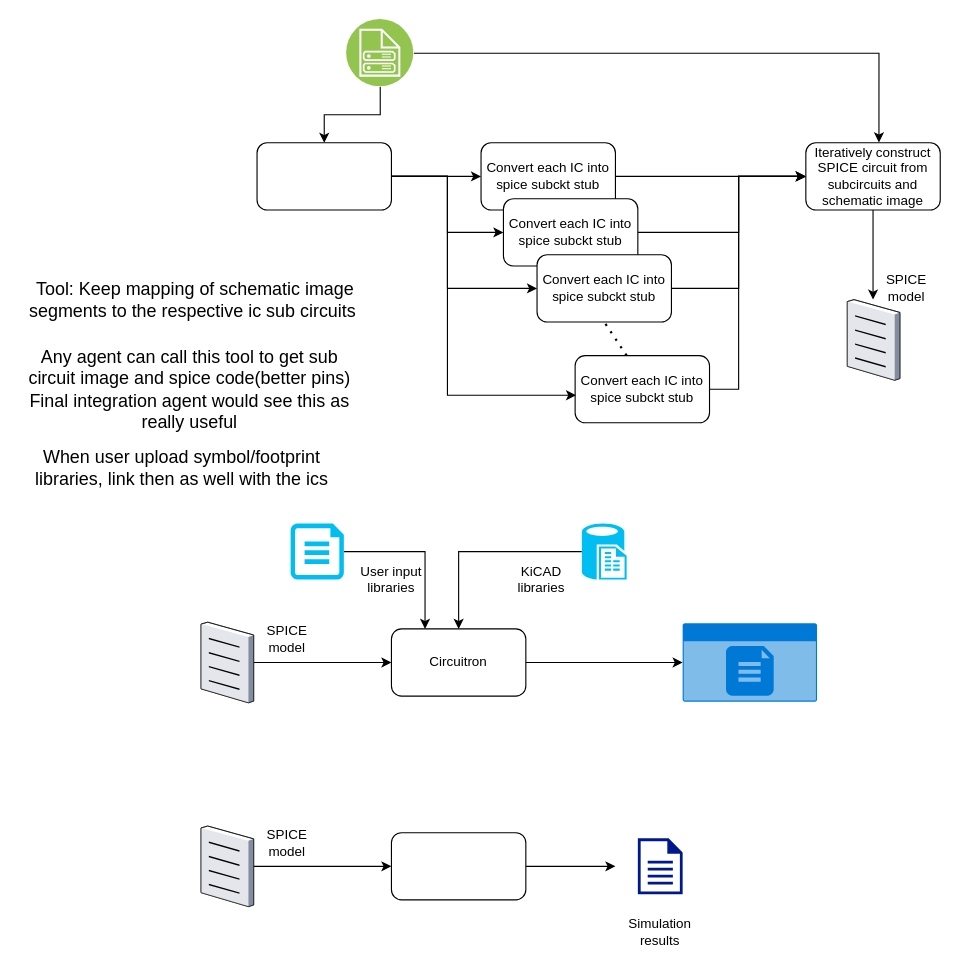
Some shapes in this 960 by 968 pixel diagram are drawn without their labels. Here are the shapes that lost their labels. From the top down, the centre of each, then its label:
pixel 323 176: Identify and segment all the ICs from the Schematic
pixel 749 662: KiCAD schematic
pixel 458 866: ngSPICE
